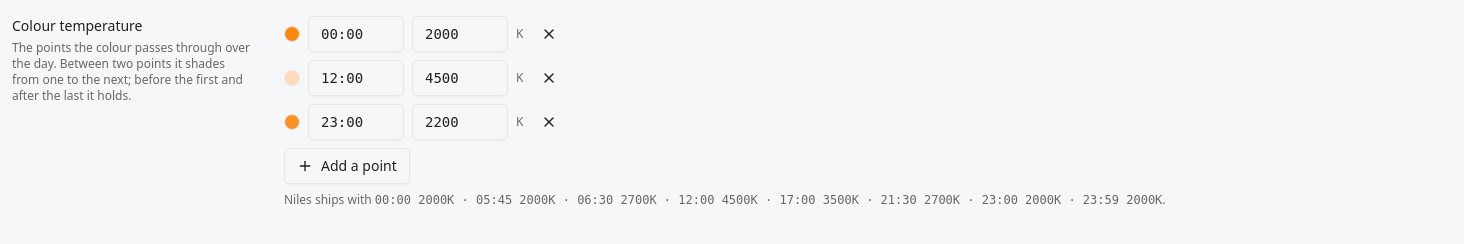
Test: AnchorEditor › refuses two points at one time
Replace the text in the field named "Point 3 time" with "12:00" at (356, 122), box [308, 104, 404, 140]
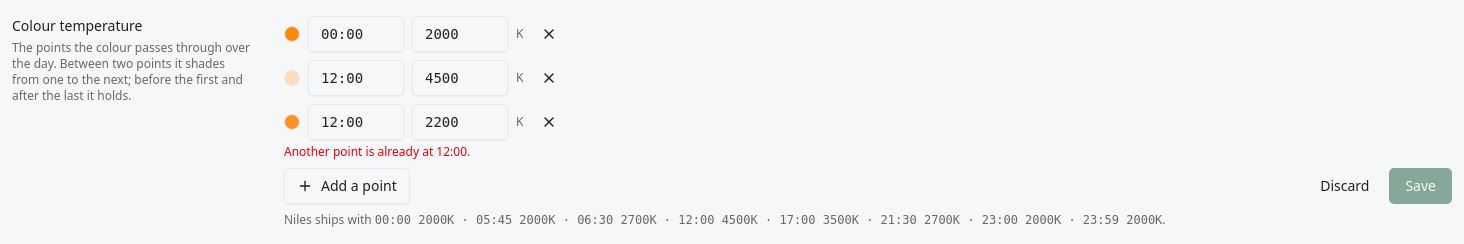
Result: the text "Another point is already at 12:00." is shown at [284, 143, 470, 160]
Result: the button "Save" is disabled at [1389, 168, 1452, 204]
